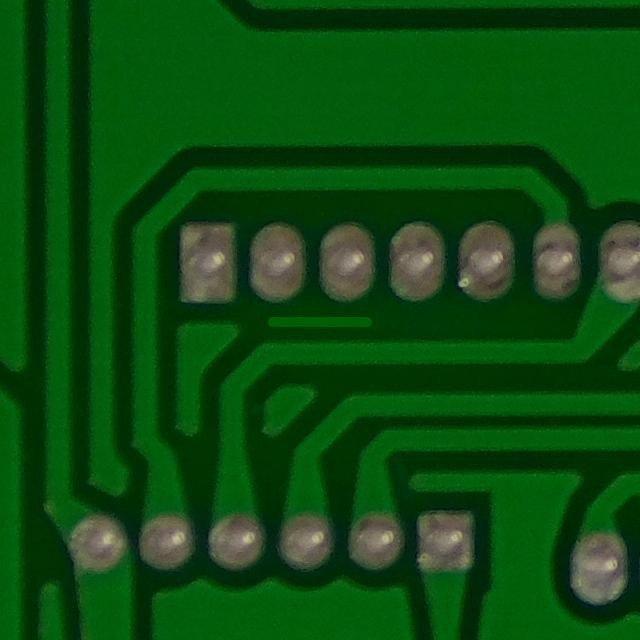spurious_copper: (255, 298, 386, 341)
